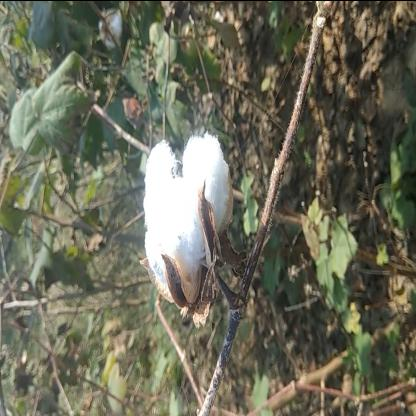cotton_ready: (132, 127, 272, 336)
